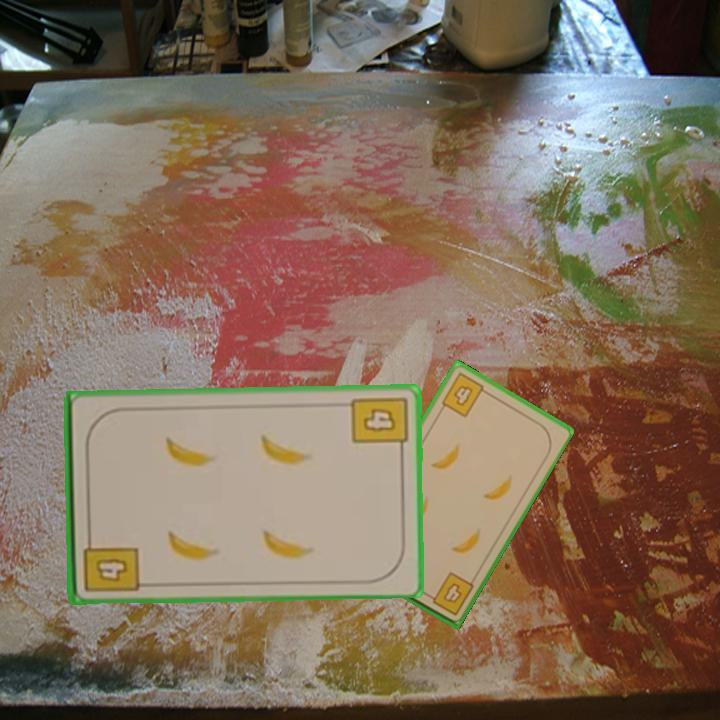4b: (348, 392, 410, 457), (79, 530, 141, 595), (438, 369, 492, 420), (422, 568, 477, 618)
